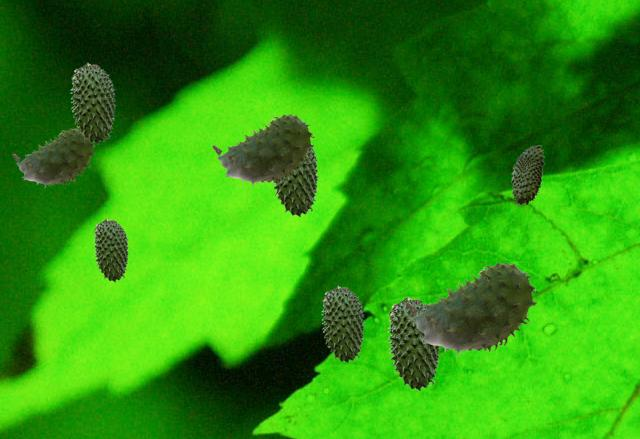guyabano: (405, 262, 536, 356), (212, 114, 313, 186), (387, 296, 440, 390), (12, 128, 94, 187), (70, 62, 115, 143), (271, 143, 318, 216), (321, 285, 364, 362), (93, 218, 128, 281), (511, 145, 543, 204)
